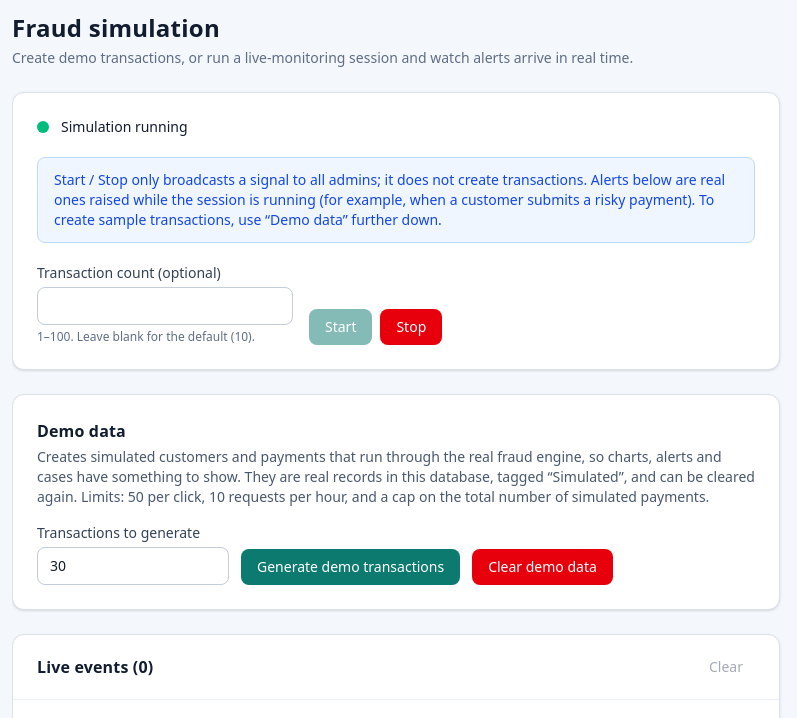
Test: SimulationPanel › Stop shows the server message on failure
Click the button "Stop". click: (411,327)
box: top-left (380, 309), bottom-right (442, 345)
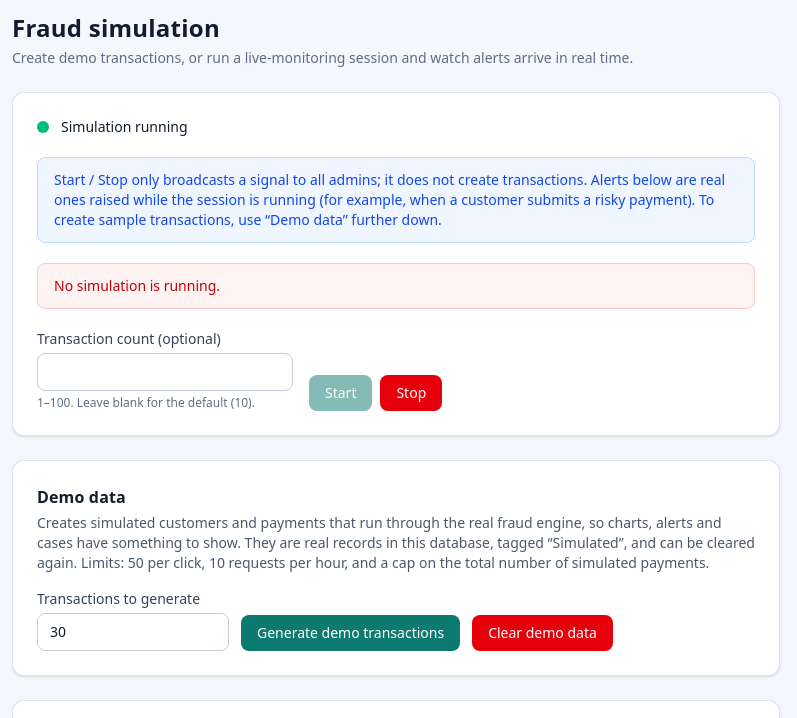
Now the message "No simulation is running." is shown, box top-left (37, 263), bottom-right (755, 309)
